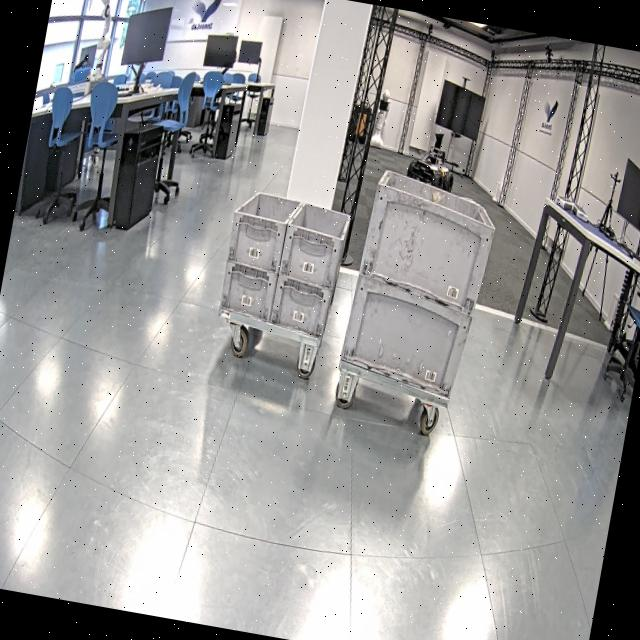Box4G: (356, 180, 499, 306), (337, 276, 475, 401)
Box8G: (278, 208, 350, 284), (225, 198, 289, 270), (268, 274, 336, 335), (216, 260, 278, 322)
